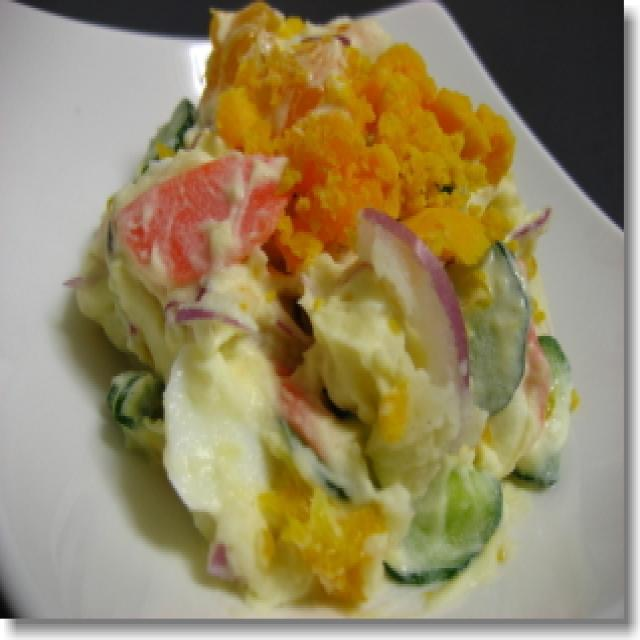蔬菜料理: (0, 0, 632, 629)
